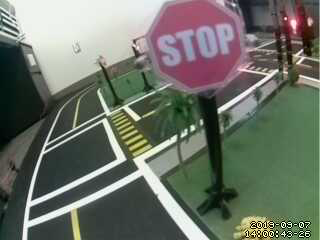Stop_Sign: (145, 3, 255, 87)
